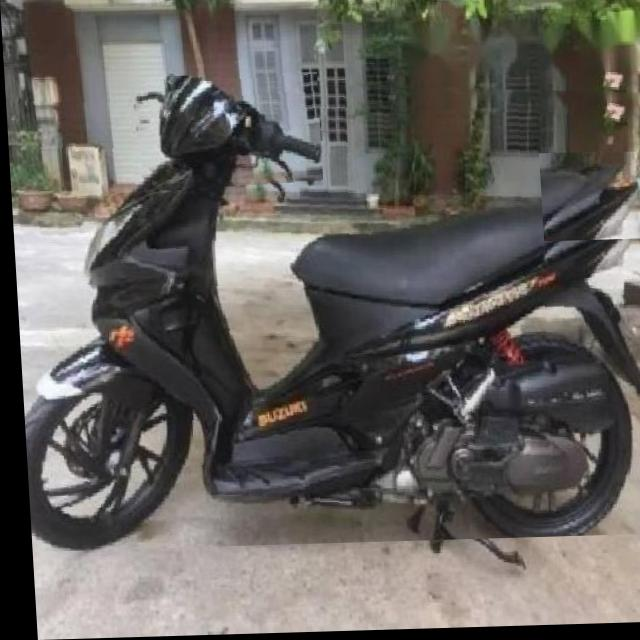All: (4, 64, 640, 552)
Head: (131, 74, 321, 193)
Tail: (537, 155, 640, 245)
